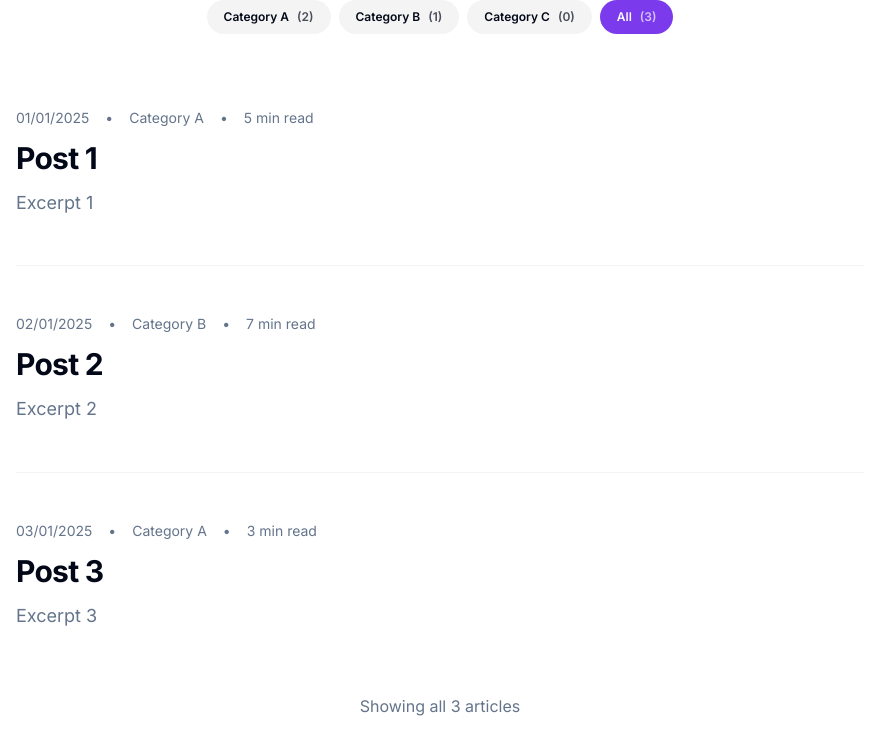
Test: BlogList › filters posts by category when a category badge is clicked
The image size is (881, 733).
Click the text "Category A": {"x": 268, "y": 17} [206,0,330,34]
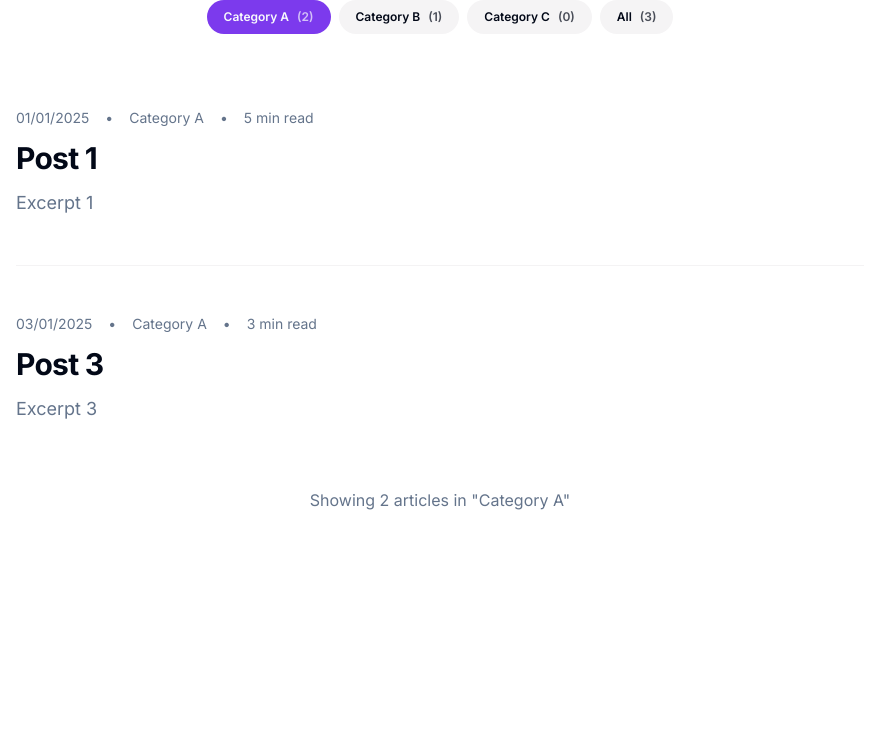
Expected: the heading "Post 1" is shown, [16,140,97,176]
Expected: the link "Post 2" is gone
Expected: the text "Showing 2 articles in \"Category A\"" is shown, [310,490,570,510]
